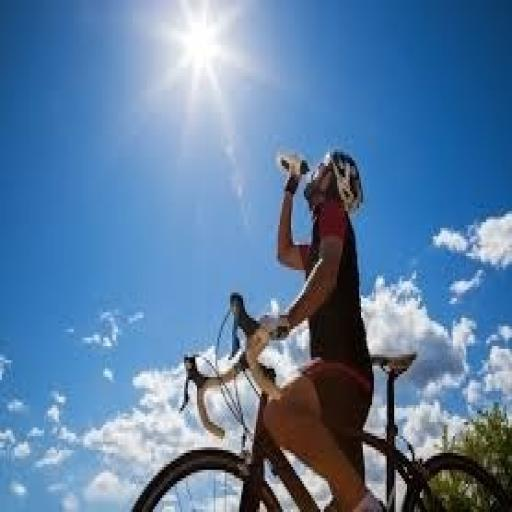drinking: (214, 87, 512, 478)
